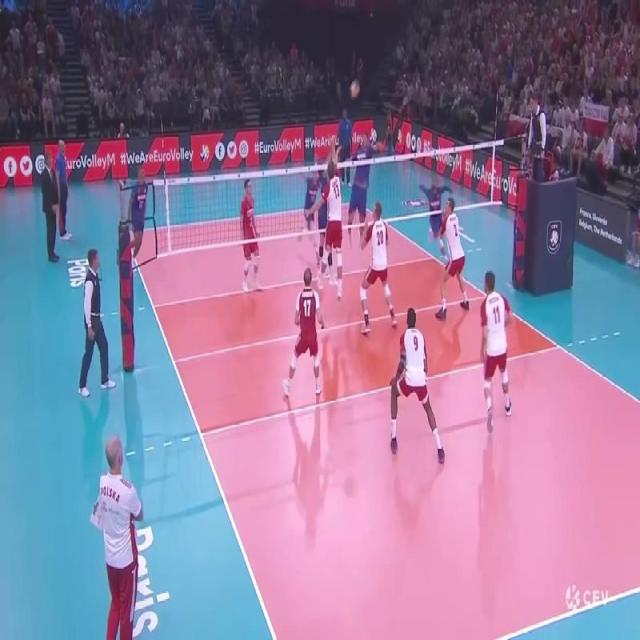volleyball: (350, 82, 360, 96)
